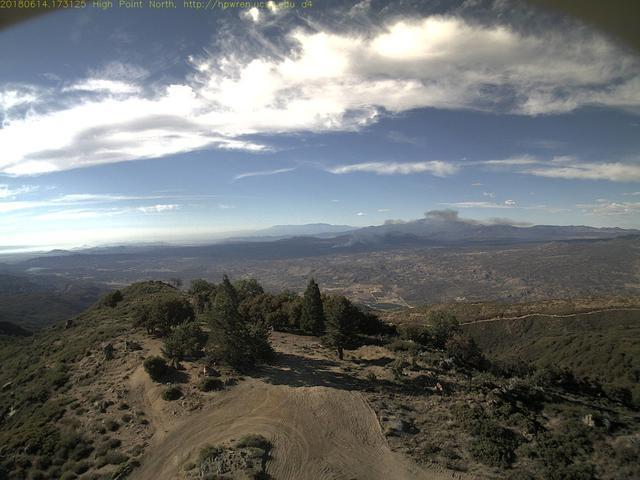Smoke: (328, 204, 529, 251)
